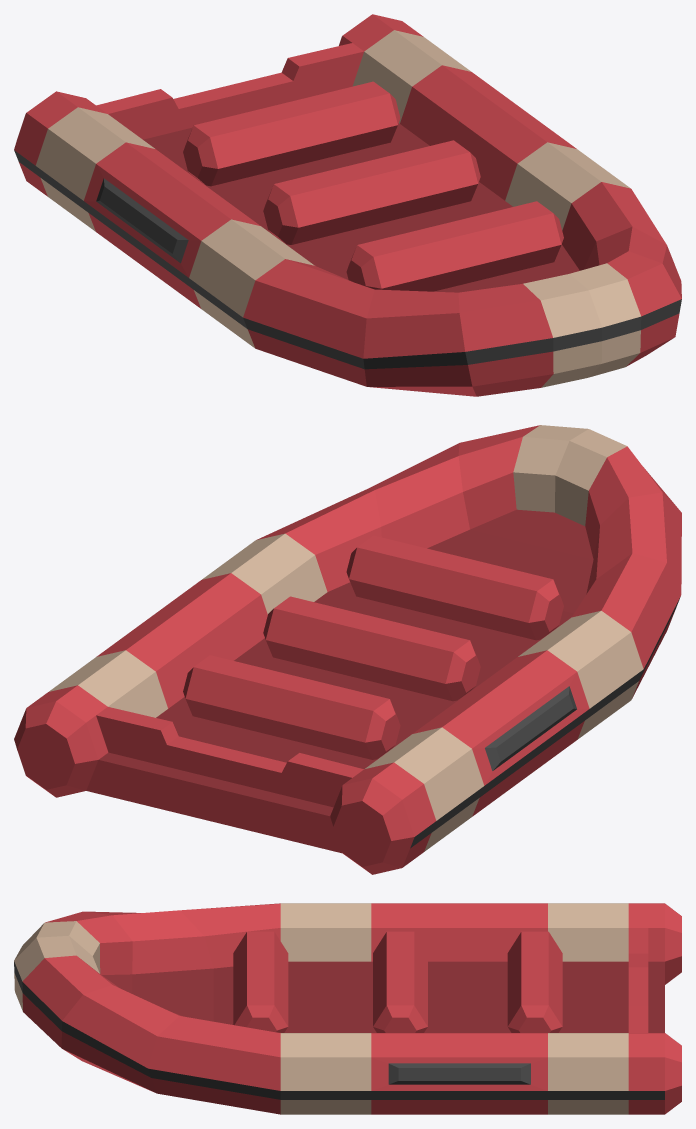
File: quaternius-ships-lifeboat.glb
3 views of the same model, one above another, from view 1: azimuth 30°, elevation 25°; view 2: azimuth 150°, elevation 25°; view 3: azimuth 270°, elevation 25° (orthographic). The views are drawn at different scales.
Parts seen in each view (by area): view 1: Lifeboat; view 2: Lifeboat; view 3: Lifeboat.
Boxes of the visible parts, x1,y1,x2,y2 form: Lifeboat: [14, 14, 681, 396]; Lifeboat: [14, 425, 681, 874]; Lifeboat: [14, 903, 681, 1114].
Size of the model in its own units: 0.6472 by 0.2091 by 1.11.
